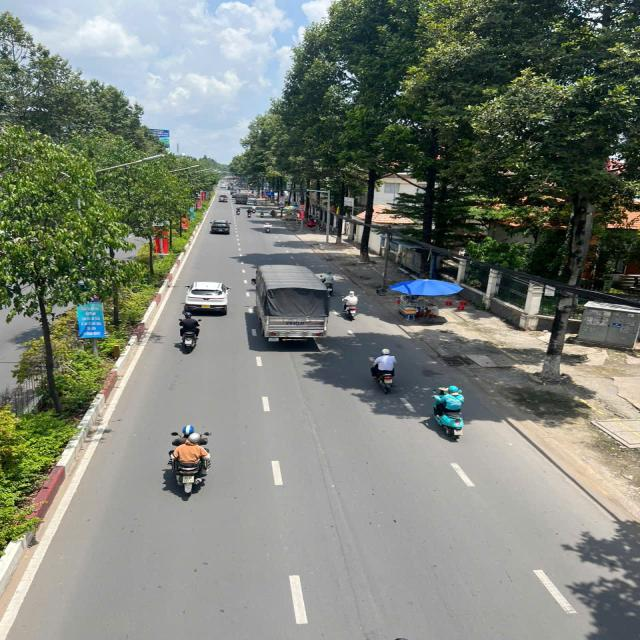ben: (251, 261, 336, 347)
car: (179, 278, 236, 320), (207, 215, 235, 238)
motobyte: (161, 421, 216, 505), (422, 383, 474, 446), (365, 346, 404, 398), (177, 308, 205, 356), (336, 287, 364, 325), (262, 219, 276, 235), (246, 205, 256, 222), (233, 204, 244, 218)
